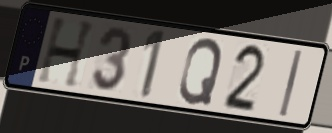1: (139, 27, 167, 101)
2: (221, 41, 270, 115)
3: (91, 25, 134, 94)
H: (34, 16, 100, 91)
I: (277, 48, 305, 120)
Q: (176, 36, 225, 107)
